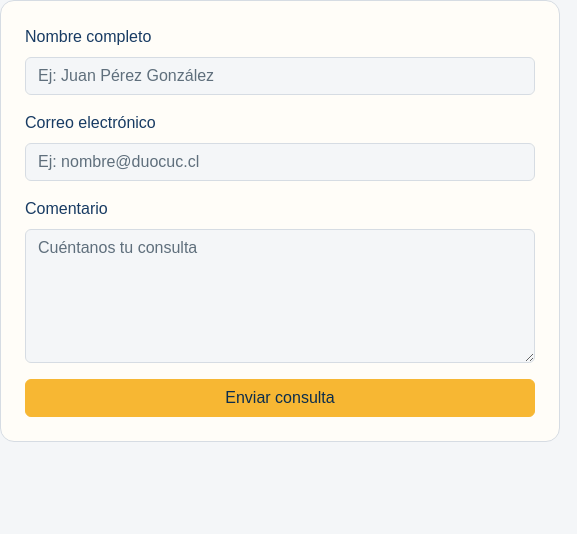
Test: ContactoContainer › muestra los errores si se envía el formulario vacío
The width and height of the screenshot is (577, 534).
Click the button "Enviar consulta" at {"x": 280, "y": 398}, box x1=25 y1=379 x2=535 y2=417
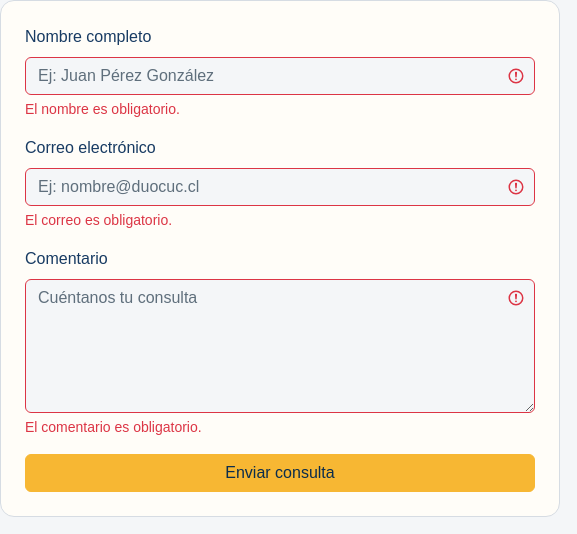
Check: the text "El nombre es obligatorio." is shown, box x1=25 y1=101 x2=180 y2=117
Check: the text "El correo es obligatorio." is shown, box x1=25 y1=212 x2=172 y2=228
Check: the text "El comentario es obligatorio." is shown, box x1=25 y1=419 x2=202 y2=435
